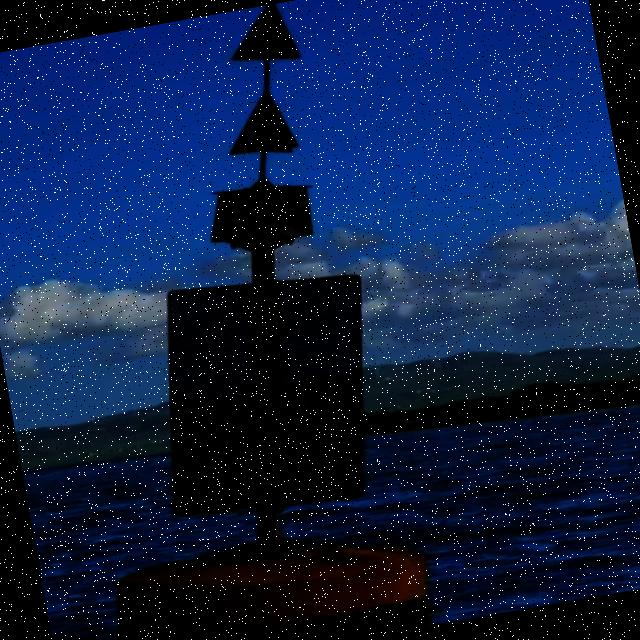marque: (17, 1, 429, 640)
